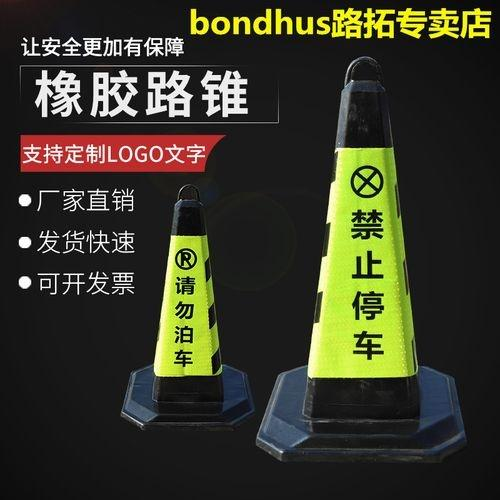cone_barrel: (280, 78, 435, 456), (131, 194, 241, 428)
